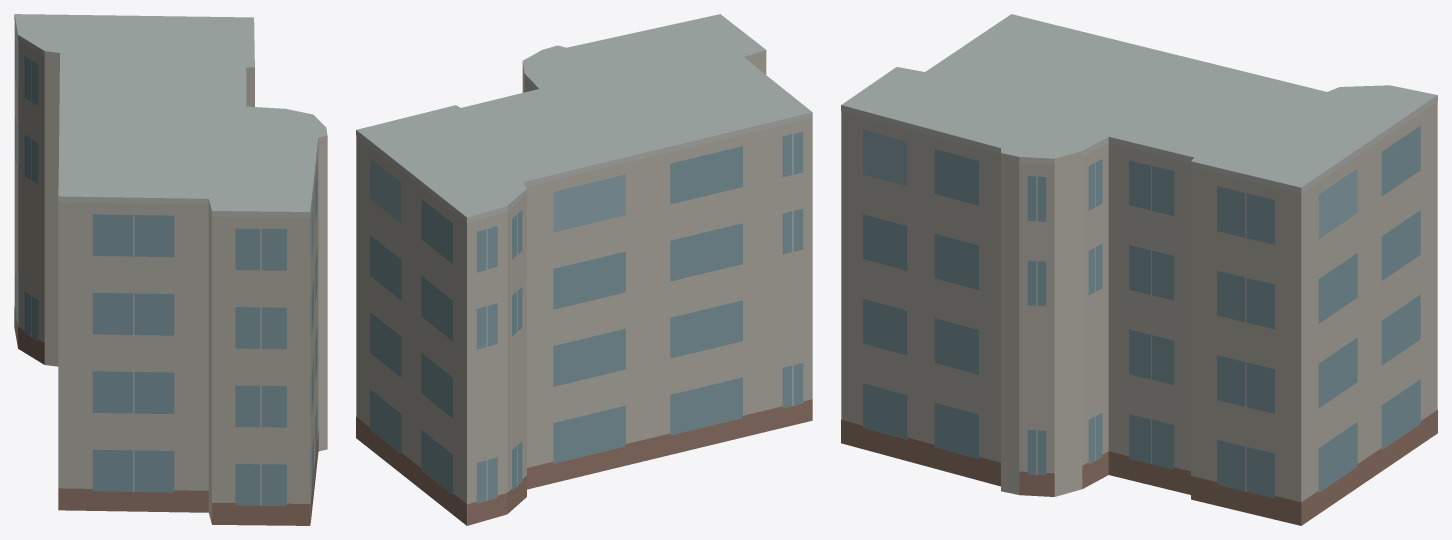
Rendered from survey-upis-32931371.glb.
The picture shows the model from 3 angles, left to right: view 1: azimuth 30°, elevation 25°; view 2: azimuth 150°, elevation 25°; view 3: azimuth 270°, elevation 25°; orthographic projection. The views are drawn at different scales.
Parts seen in each view (by area): view 1: survey-upis-32931371.tmp; view 2: survey-upis-32931371.tmp; view 3: survey-upis-32931371.tmp.
Part boxes in pixels (x1,y1,x2,y2): survey-upis-32931371.tmp: (14, 14, 327, 525); survey-upis-32931371.tmp: (356, 14, 812, 525); survey-upis-32931371.tmp: (841, 14, 1437, 525).
Bounding box in the file's own units: 14.54 × 13.2 × 21.11.
